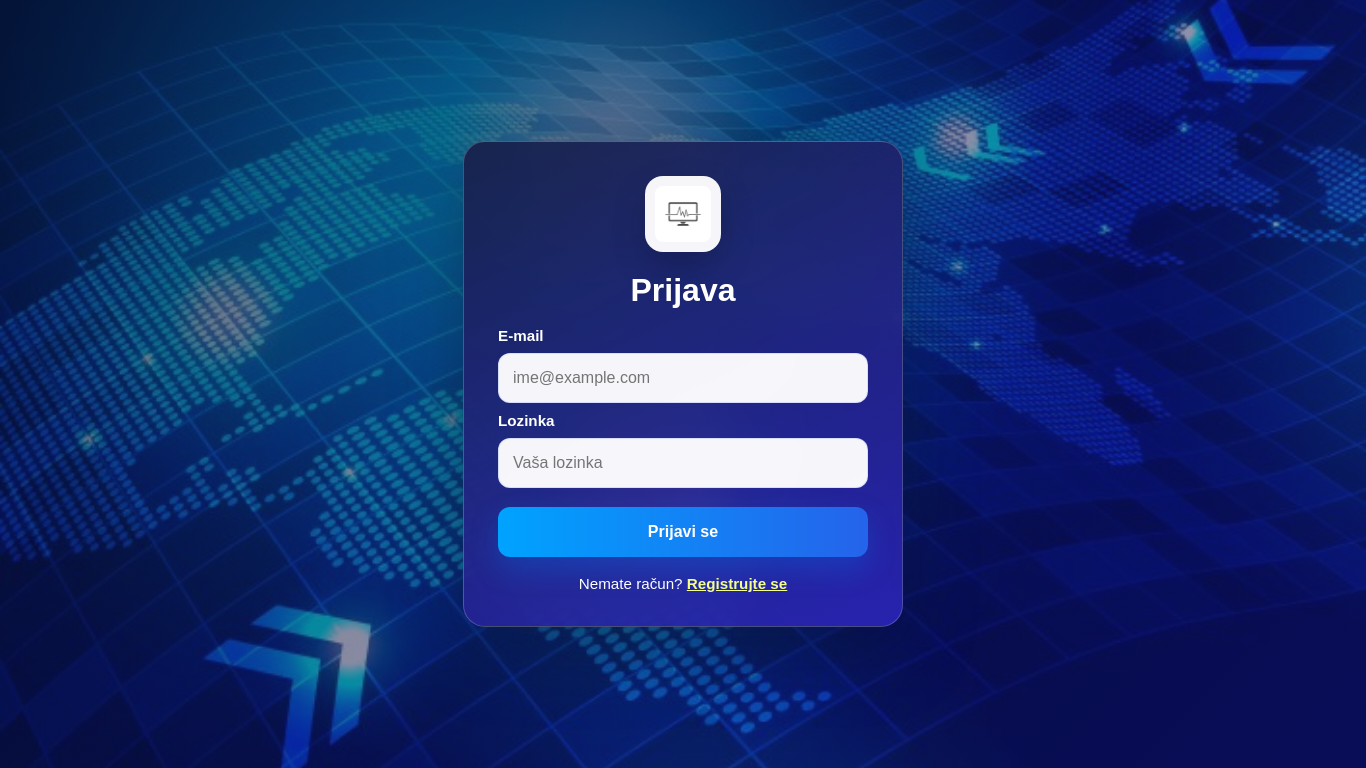
login flow stores token and opens protected home
The image size is (1366, 768).
Type "user@example.com" into the field labelled "E-mail" at (683, 378), box [498,353,868,403]
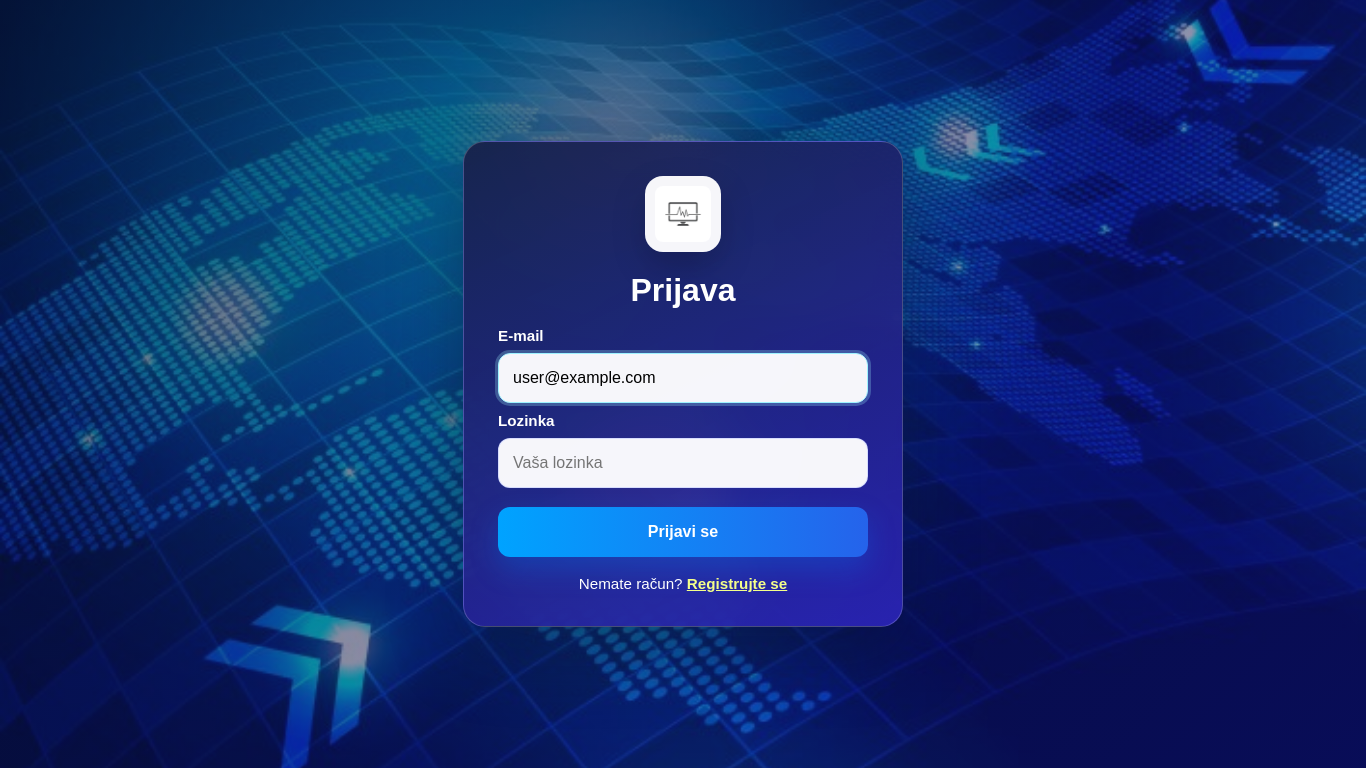
Type "Password123" into the password field labelled "Lozinka" at (683, 463), box [498,438,868,488]
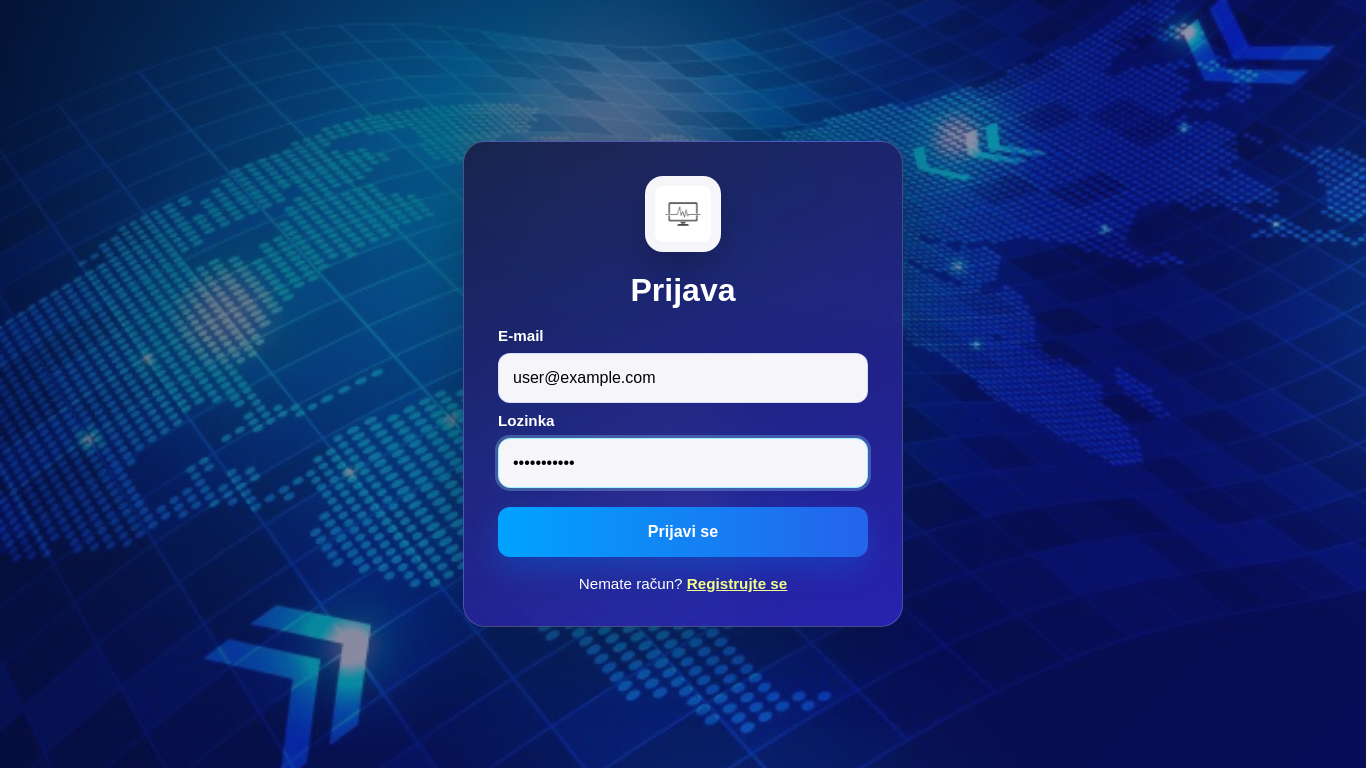
Click the button "Prijavi se" at (683, 532), box [498,507,868,557]
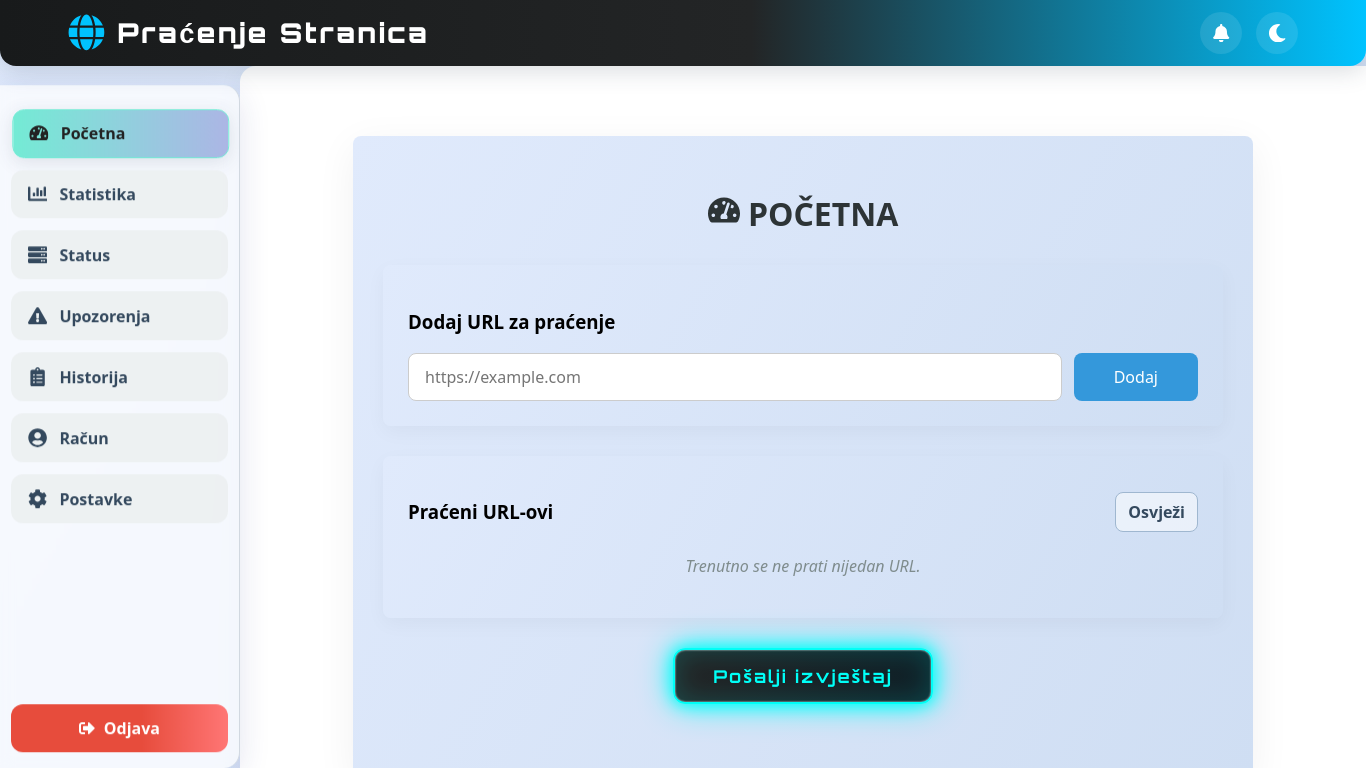
Now the text "Praćenje Stranica" is shown, box [68,14,429,51]
